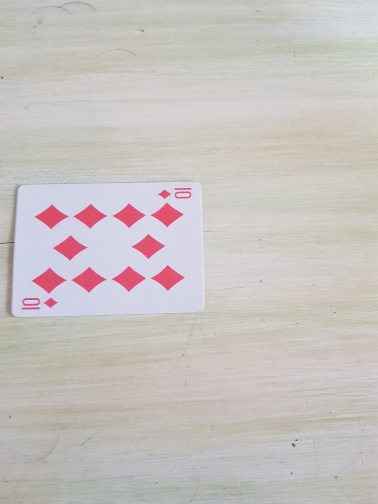ten: (9, 180, 207, 319)
